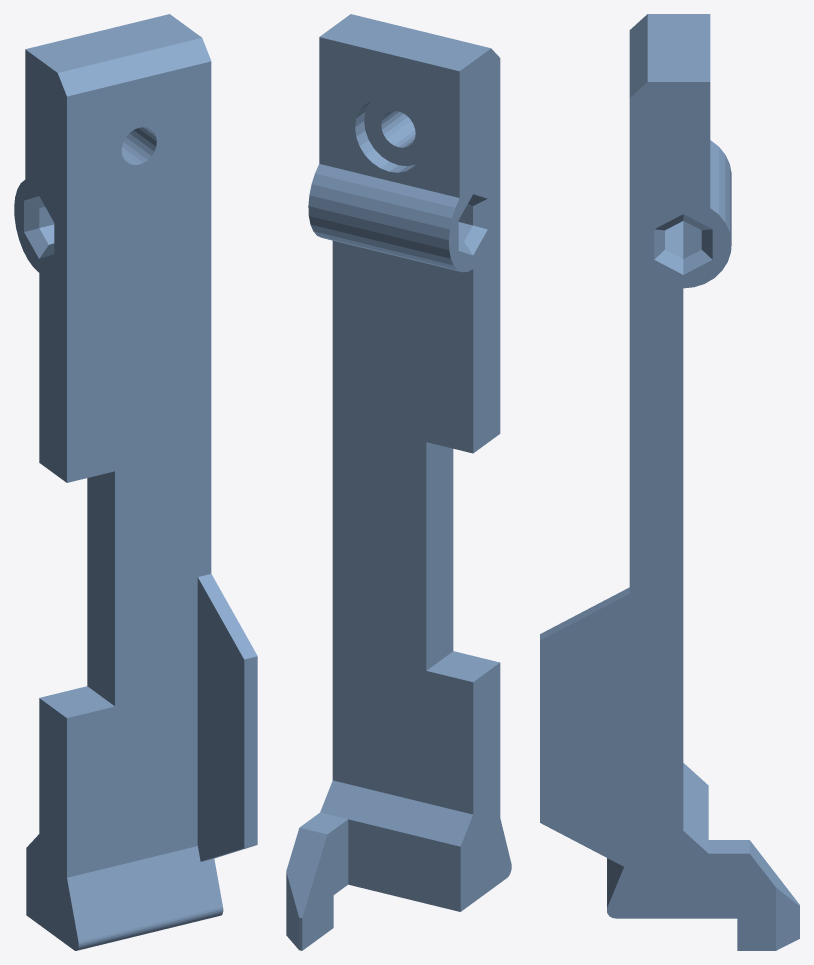
Rendered from feeder_advancer.glb.
The picture shows the model from 3 angles, left to right: view 1: azimuth 30°, elevation 25°; view 2: azimuth 150°, elevation 25°; view 3: azimuth 270°, elevation 25°; orthographic projection. The views are drawn at different scales.
Visible parts, largest first — view 1: pt_47#0; view 2: pt_47#0; view 3: pt_47#0.
Boxes of the visible parts, <box> form: pt_47#0: <box>14,14,257,950</box>; pt_47#0: <box>286,14,511,950</box>; pt_47#0: <box>540,14,799,950</box>.
Size of the model in its own units: 0.009 by 0.0535 by 0.0145.
